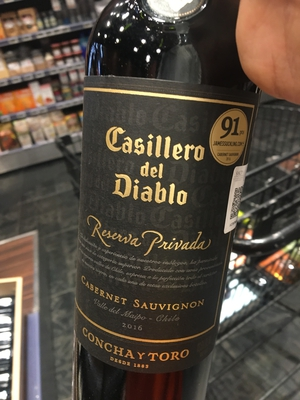casillero del diablo reserva privada cabernet sauvignon: (62, 6, 261, 400)
